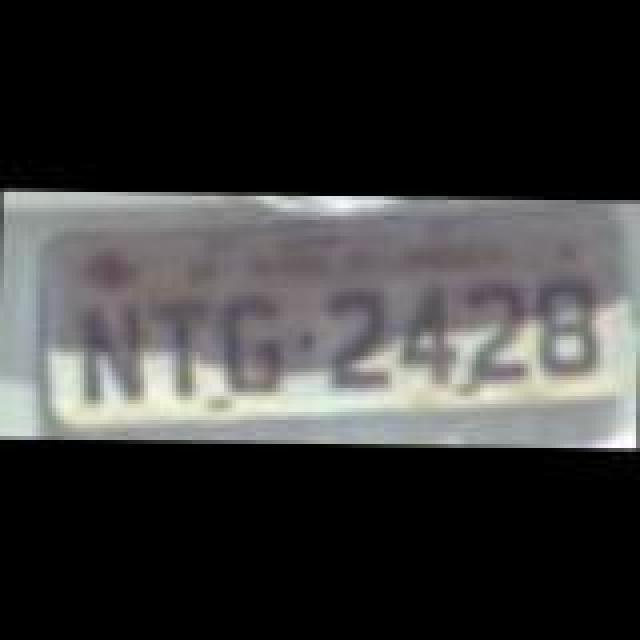2: (460, 284, 532, 388), (326, 282, 394, 390)
4: (402, 284, 462, 388)
8: (534, 278, 602, 378)
G: (220, 286, 292, 394)
N: (84, 296, 148, 408)
T: (152, 300, 216, 404)
